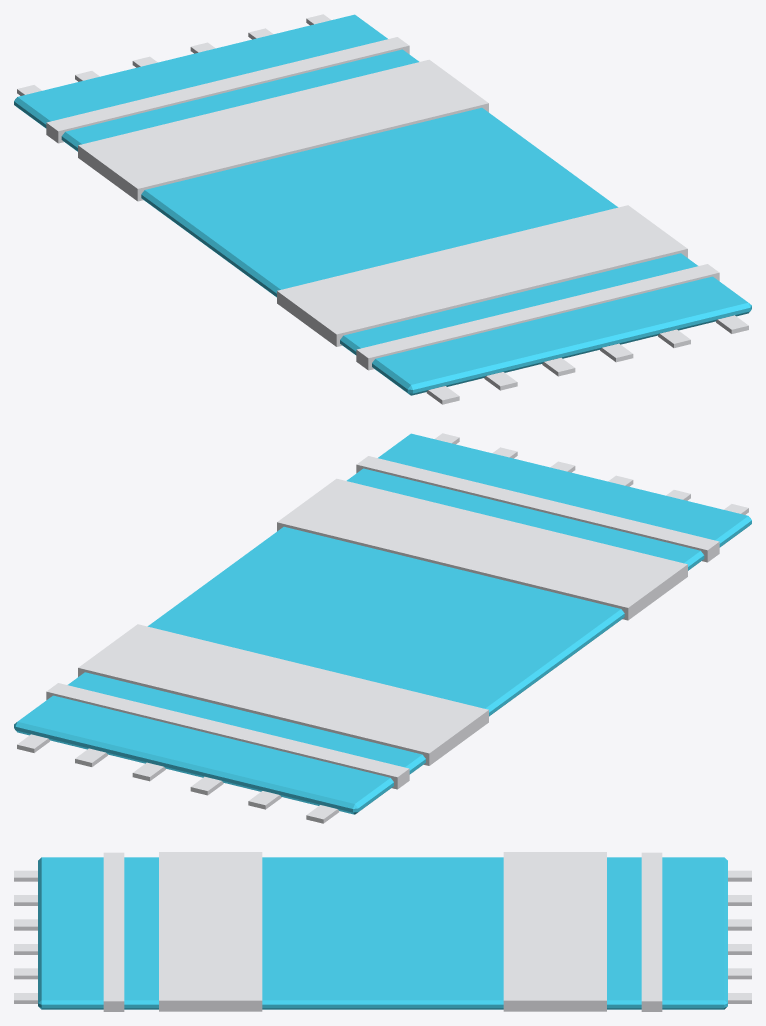
The model's file is towel.glb.
The picture shows the model from 3 angles, top to bottom: view 1: azimuth 30°, elevation 25°; view 2: azimuth 150°, elevation 25°; view 3: azimuth 270°, elevation 25°; orthographic projection. The views are drawn at different scales.
Parts seen in each view (by area): view 1: towel-m; view 2: towel-m; view 3: towel-m.
Part boxes in pixels (bbox=[...]): towel-m: bbox=[14, 14, 751, 404]; towel-m: bbox=[14, 433, 751, 823]; towel-m: bbox=[14, 852, 751, 1011].
Size of the model in its own units: 1.02 by 0.0405 by 2.14.
